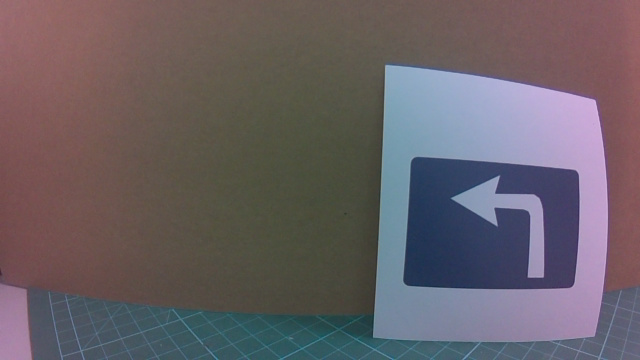left: (404, 143, 589, 311)
